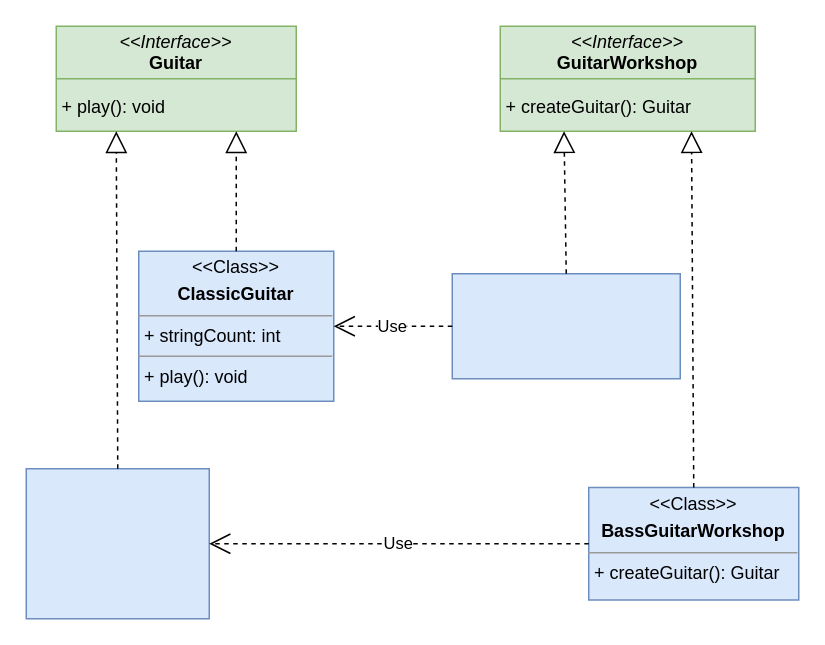
Some shapes in this 825 by 645 pixel diagram are drawn without their labels. The centre of each missing label's shape, as x and y in pixels:
<<Class>> BassGuitar + stringCount: int + play(): void: point (117, 543)
<<Class>> ClassicGuitarWorkshop + createGuitar(): Guitar: point (565, 325)
